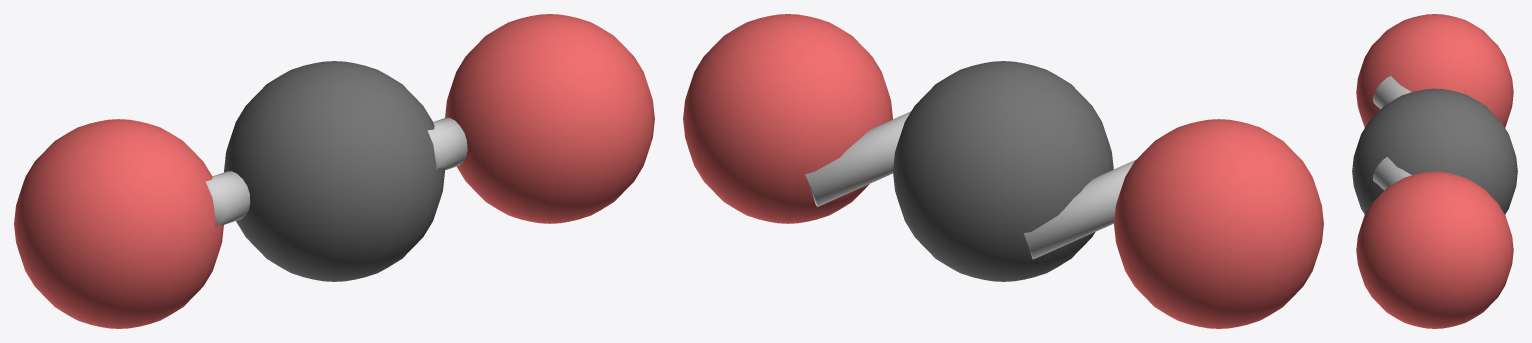
File: carbon_dioxide.glb
3 renders of one model, left to right at view 1: azimuth 30°, elevation 25°; view 2: azimuth 150°, elevation 25°; view 3: azimuth 270°, elevation 25°, orthographic. The views are drawn at different scales.
Parts seen in each view (by area): view 1: c_node, o2_node, o1_node, b2_node, b1_node; view 2: c_node, o2_node, o1_node, b1_node, b2_node; view 3: o1_node, c_node, o2_node, b1_node, b2_node.
Part boxes in pixels (<box>): c_node: <box>224,61,444,281</box>; o2_node: <box>14,119,223,328</box>; o1_node: <box>445,14,654,223</box>; b2_node: <box>205,171,250,226</box>; b1_node: <box>427,117,467,170</box>; c_node: <box>893,61,1113,281</box>; o2_node: <box>1114,119,1323,328</box>; o1_node: <box>683,14,892,223</box>; b1_node: <box>805,111,910,206</box>; b2_node: <box>1023,159,1136,259</box>; o1_node: <box>1356,171,1513,328</box>; c_node: <box>1352,88,1517,214</box>; o2_node: <box>1356,14,1513,127</box>; b1_node: <box>1373,157,1411,190</box>; b2_node: <box>1373,76,1411,108</box>.
Bounding box in the file's own units: 2.56 × 0.8 × 0.8.
